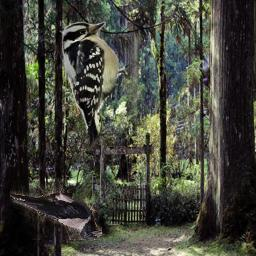Crow: (10, 178, 102, 240)
Woodpecker: (60, 19, 138, 149)
